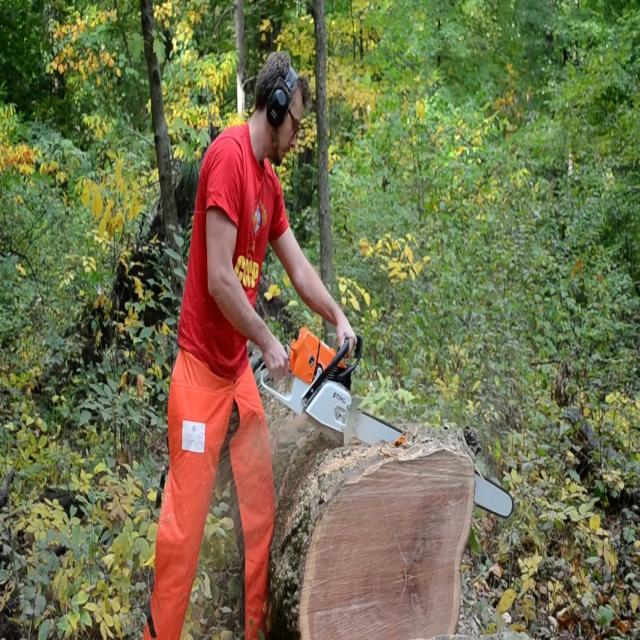Chainsaw: (242, 288, 520, 540)
